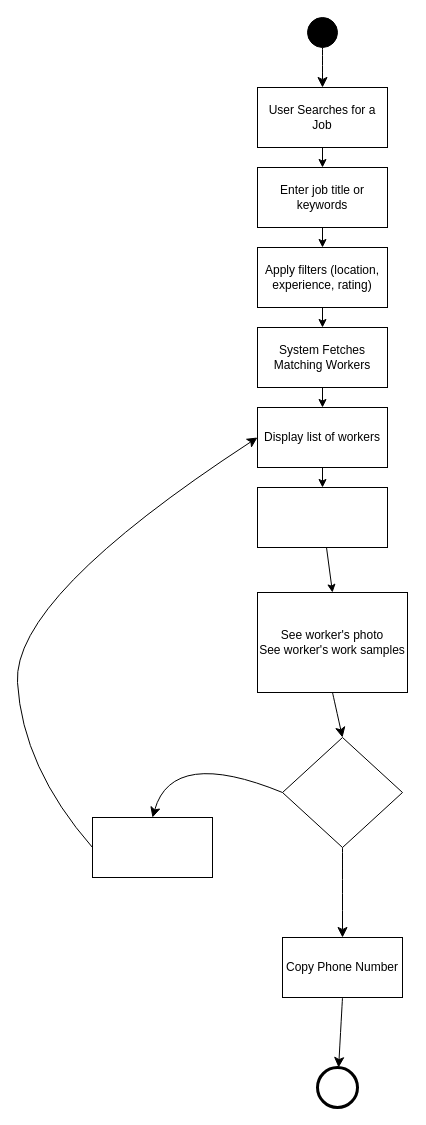
Some shapes in this 426 by 1125 pixel diagram are drawn without their labels. Here are the shapes that lost their labels. From the top down, the box of each, then its label:
(256, 486, 388, 548): User Views Worker Profile
(282, 736, 402, 848): want to contact him?
(92, 816, 212, 878): Press Back Button
